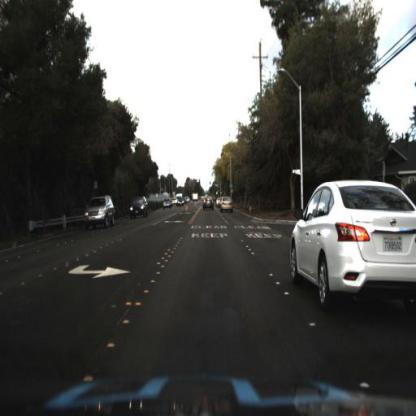car: (284, 179, 413, 313), (82, 196, 118, 232), (82, 195, 116, 231), (127, 192, 151, 224), (219, 194, 236, 217), (201, 194, 215, 214), (162, 197, 175, 214)
